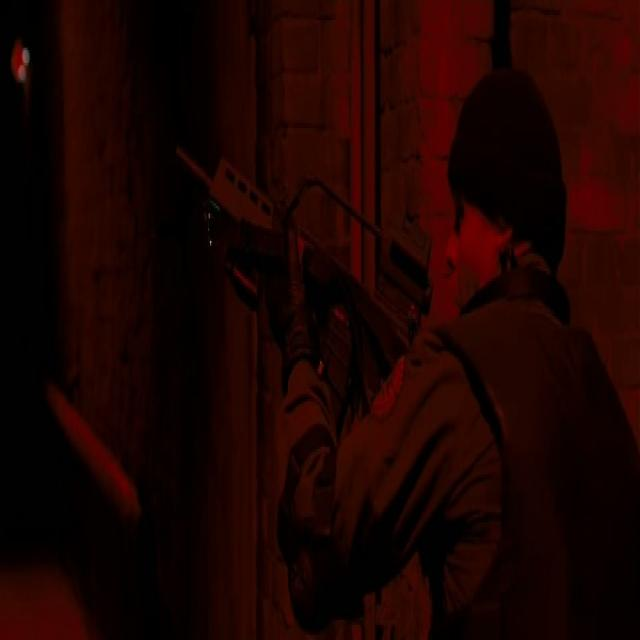rifle: (169, 122, 438, 421)
